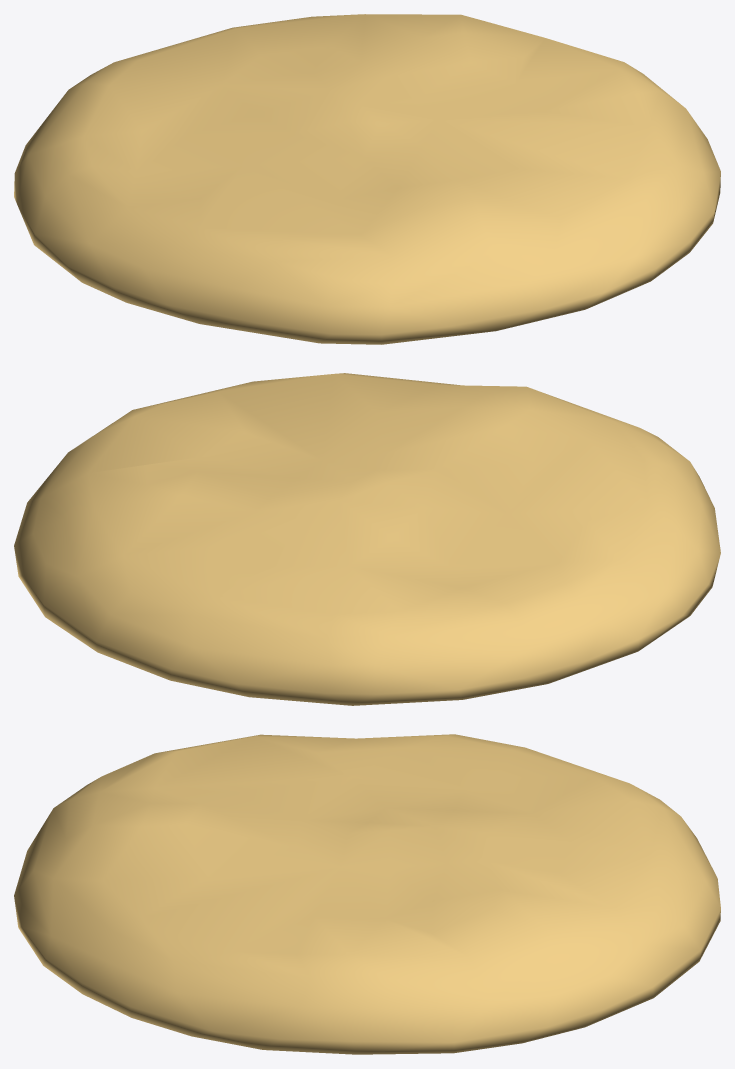
3 views of the same model, one above another, from view 1: azimuth 30°, elevation 25°; view 2: azimuth 150°, elevation 25°; view 3: azimuth 270°, elevation 25° (orthographic).
Visible parts, largest first — view 1: bana_ice; view 2: bana_ice; view 3: bana_ice.
Part boxes in pixels (x1,y1,x2,y2): bana_ice: (14,14,720,344); bana_ice: (14,373,720,705); bana_ice: (14,734,720,1054).
Bounding box in the file's own units: 1.25 × 0.164 × 1.25.
